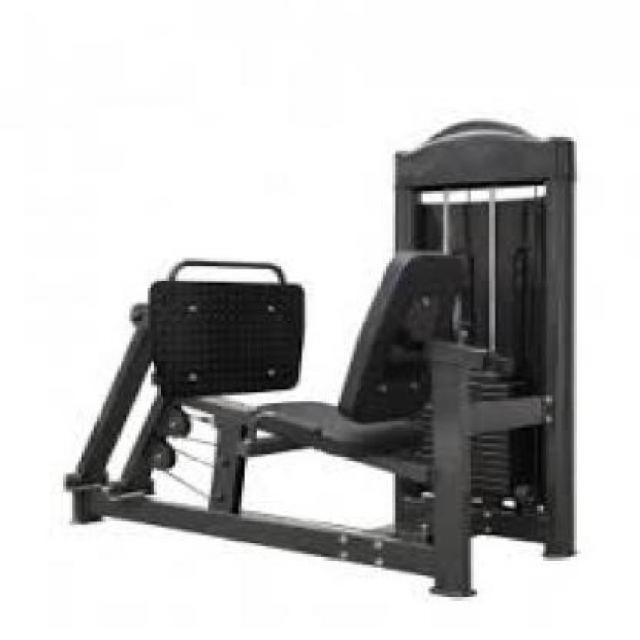leg press: (56, 112, 606, 608)
